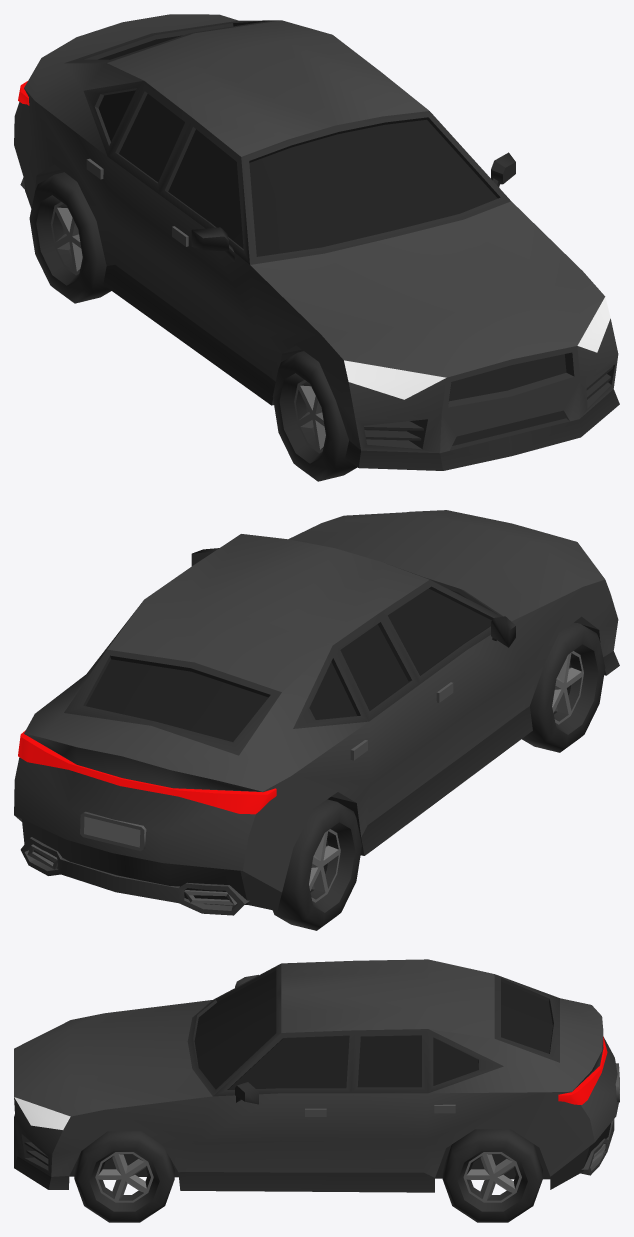
Rendered from coupe.glb.
The picture shows the model from 3 angles, top to bottom: view 1: azimuth 30°, elevation 25°; view 2: azimuth 150°, elevation 25°; view 3: azimuth 270°, elevation 25°; orthographic projection. The views are drawn at different scales.
Visible parts, largest first — view 1: coupe, wheels.024, wheels.025; view 2: coupe, wheels.024, wheels.025; view 3: coupe, wheels.034, wheels.035.
Boxes of the visible parts, bbox=[...] form: coupe: bbox=[14, 14, 619, 470]; wheels.024: bbox=[29, 172, 111, 303]; wheels.025: bbox=[272, 351, 357, 481]; coupe: bbox=[14, 510, 619, 915]; wheels.024: bbox=[272, 799, 361, 930]; wheels.025: bbox=[522, 622, 605, 752]; coupe: bbox=[14, 959, 619, 1192]; wheels.034: bbox=[442, 1129, 542, 1222]; wheels.035: bbox=[74, 1131, 174, 1222].
Bounding box in the file's own units: 2.35 × 1.74 × 5.14.
4 materials, 4 textured.
